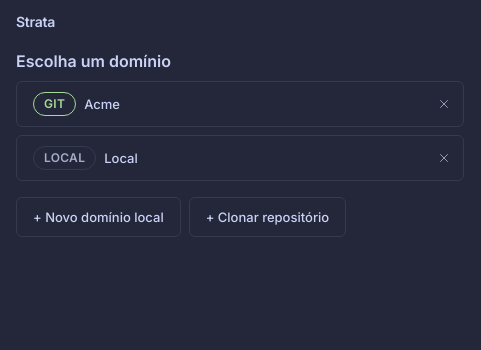
Test: DomainPicker › reveals the clone form with name and URL
The width and height of the screenshot is (481, 350).
Expected: the button "Git Acme" is shown, [16,81,464,127]
Click the button "+ Clonar repositório".
click(267, 217)  # box [189,197,346,237]
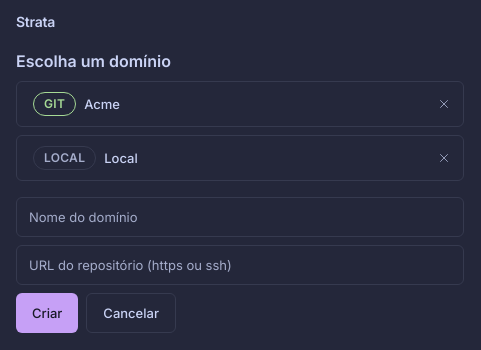
Result: the field with placeholder "Nome do domínio" is shown at [16,197,464,237]
Result: the field with placeholder "URL do repositório (https ou ssh)" is shown at [16,245,464,285]
